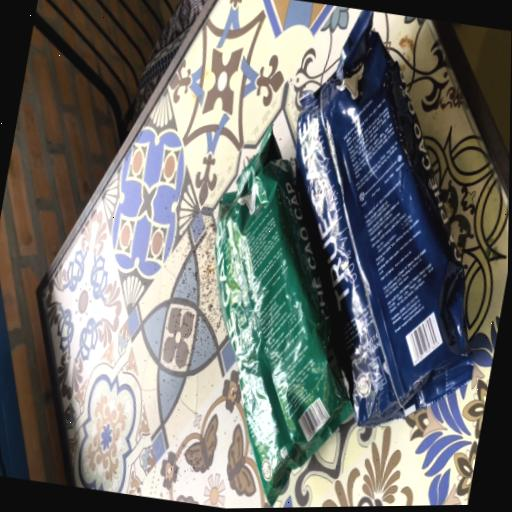cafe_hat: (296, 9, 473, 426)
cafe_xay: (215, 125, 352, 501)
